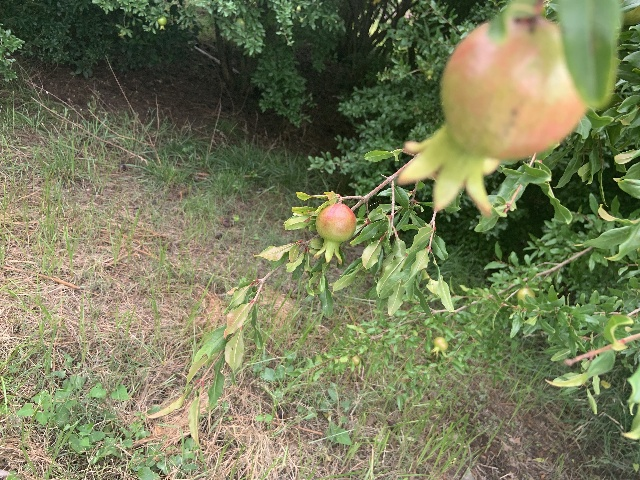early-fruit: (397, 20, 588, 216), (313, 203, 356, 265)
mid-growth: (430, 336, 448, 358), (517, 286, 535, 301), (347, 354, 360, 368), (157, 16, 167, 30)
